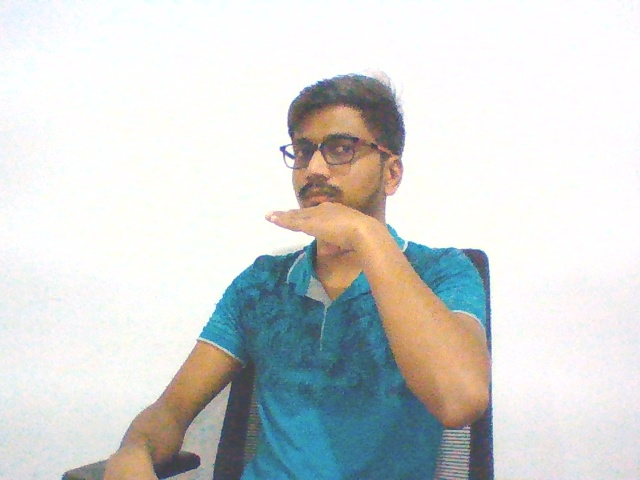elephant: (256, 192, 398, 259)
